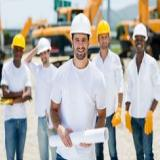Helmet: (70, 13, 92, 40), (36, 37, 52, 56), (132, 23, 148, 42), (96, 20, 110, 37), (12, 34, 26, 50)
